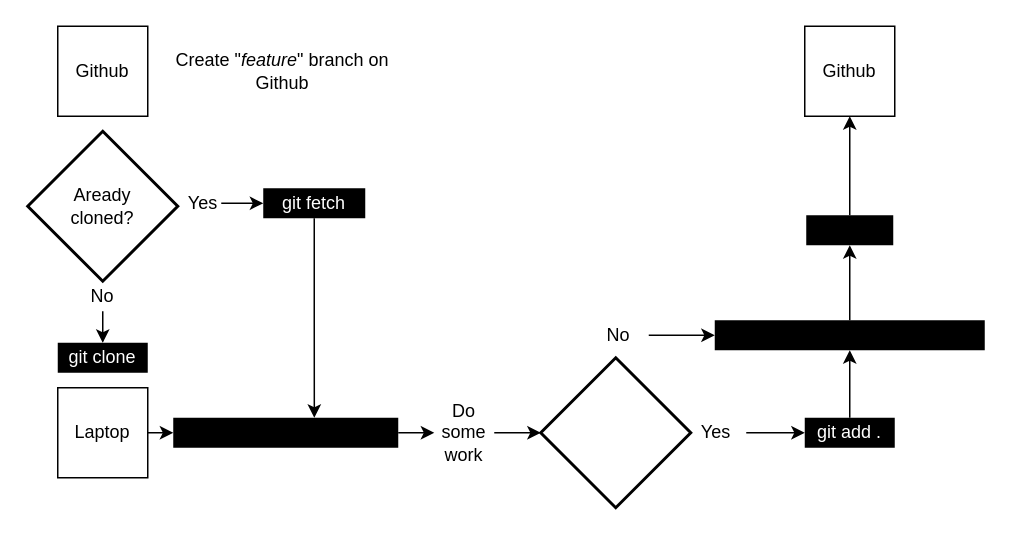
Image size: 1010x536. Some labels were removed from this diagram. The shapes that lost their labels are listed below. From the top down, each one's centre as x and y in pixels, then its label:
[849,229]: git push
[849,335]: git commit -am "description"
[285,432]: git checkout -b feature
[615,432]: New file(s) added?
